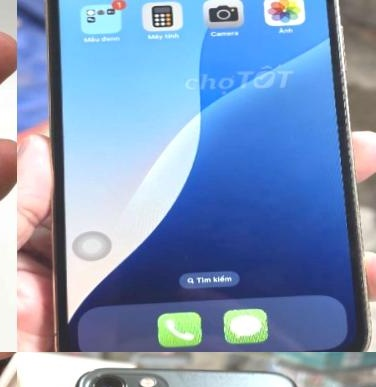scratch: (200, 363, 287, 387), (164, 360, 204, 387)
